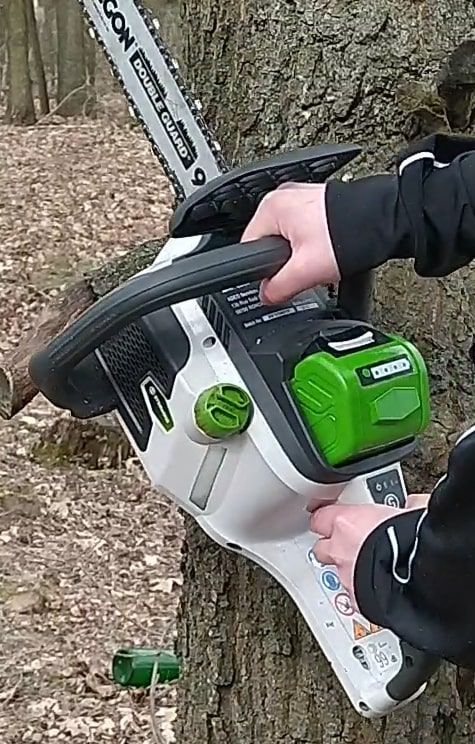chainsaw: (27, 2, 451, 730)
